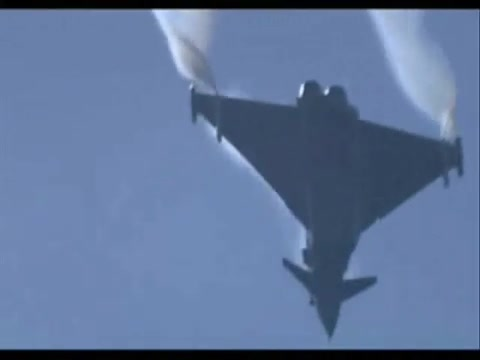aeroplane: (189, 80, 465, 341)
